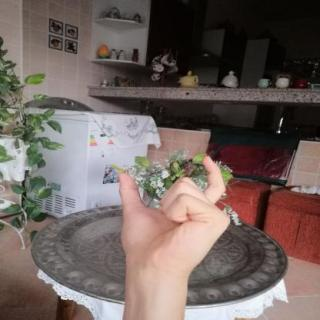NOON: (107, 149, 245, 288)
